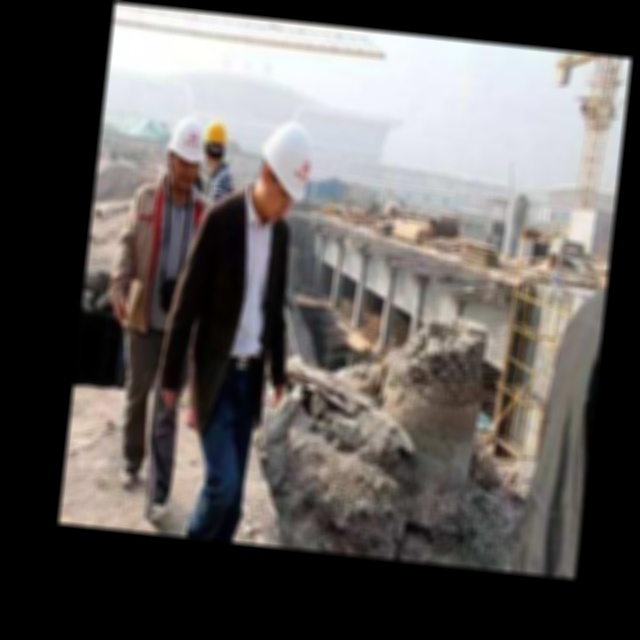Con_Casco: (252, 116, 320, 228)
